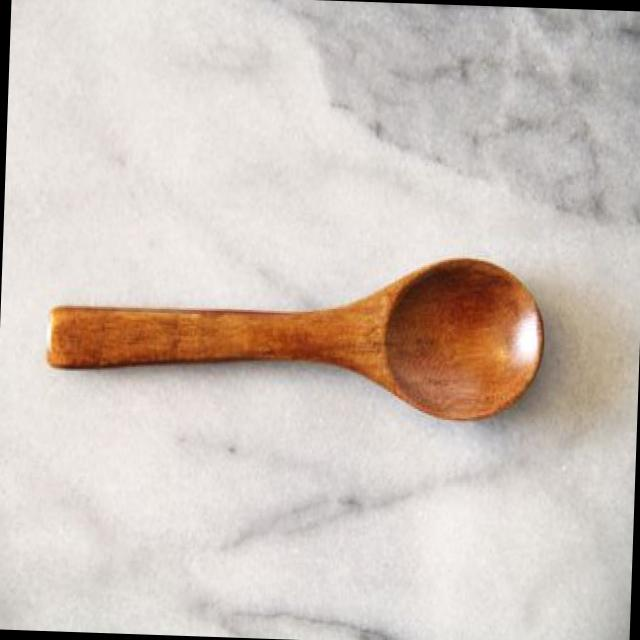spoon: (30, 228, 550, 452)
